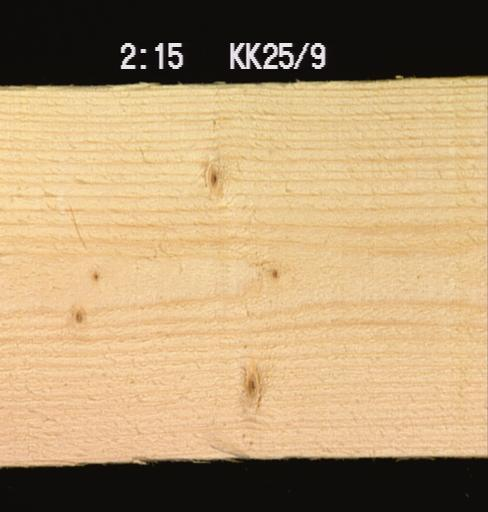small_knot: (199, 156, 226, 196), (68, 303, 92, 327), (263, 259, 284, 284), (85, 264, 105, 288)
sound_knot: (233, 362, 268, 412)
